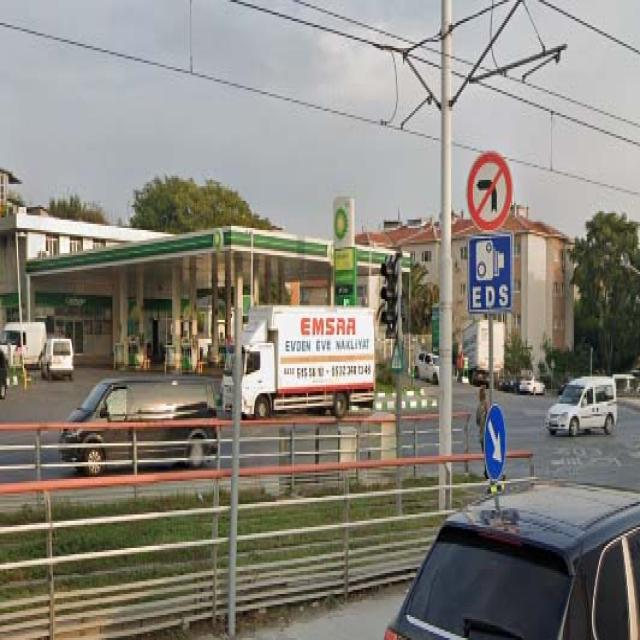soladonulmez: (467, 153, 512, 230)
